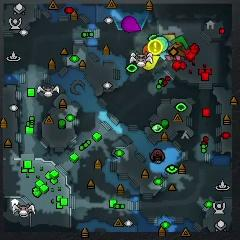Other: (148, 39, 162, 54)
p2: (154, 36, 169, 52)
p3: (122, 16, 141, 33)
p4: (143, 56, 160, 71)
p5: (142, 44, 149, 53)
x1: (165, 55, 180, 61)
x2: (162, 34, 177, 40)
x3: (159, 51, 168, 61)
x4: (171, 35, 188, 49)
x5: (169, 43, 185, 60)
